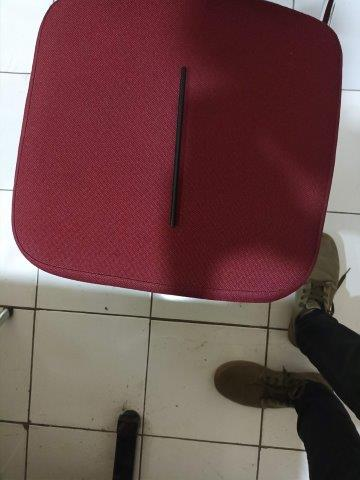sedotan: (170, 68, 185, 227)
